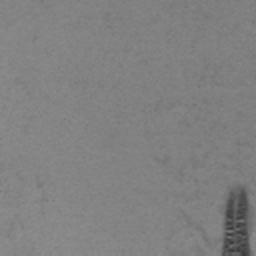Oxide scale of plate system: (221, 187, 251, 256)
